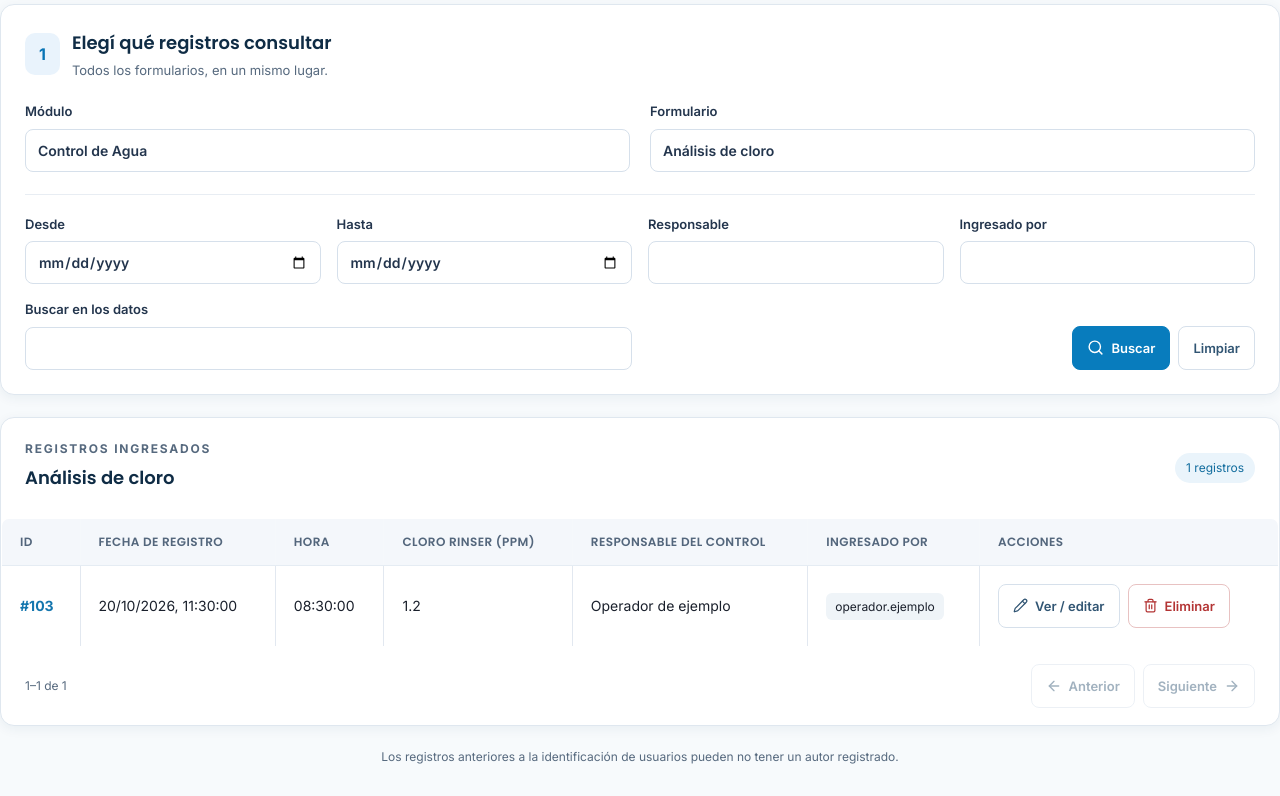
Test: sends only changed values, version and reason; preserves edits on conflict
(page scrolled)
Click the button "Ver / editar" at point(1059, 606), box x1=998 y1=584 x2=1120 y2=628
(page scrolled)
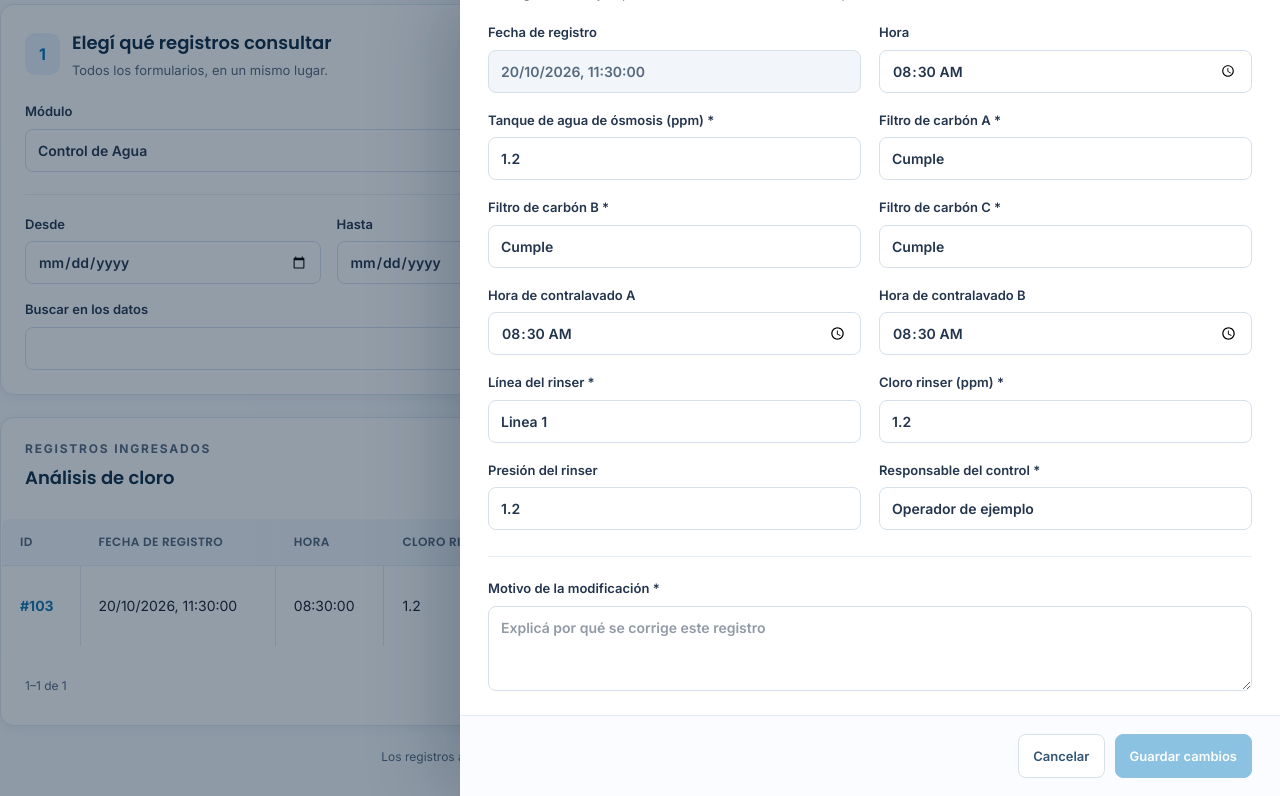
Replace the text in the number field labelled "Presión del rinser" with "4.2" at point(674, 508), box x1=488 y1=487 x2=861 y2=530
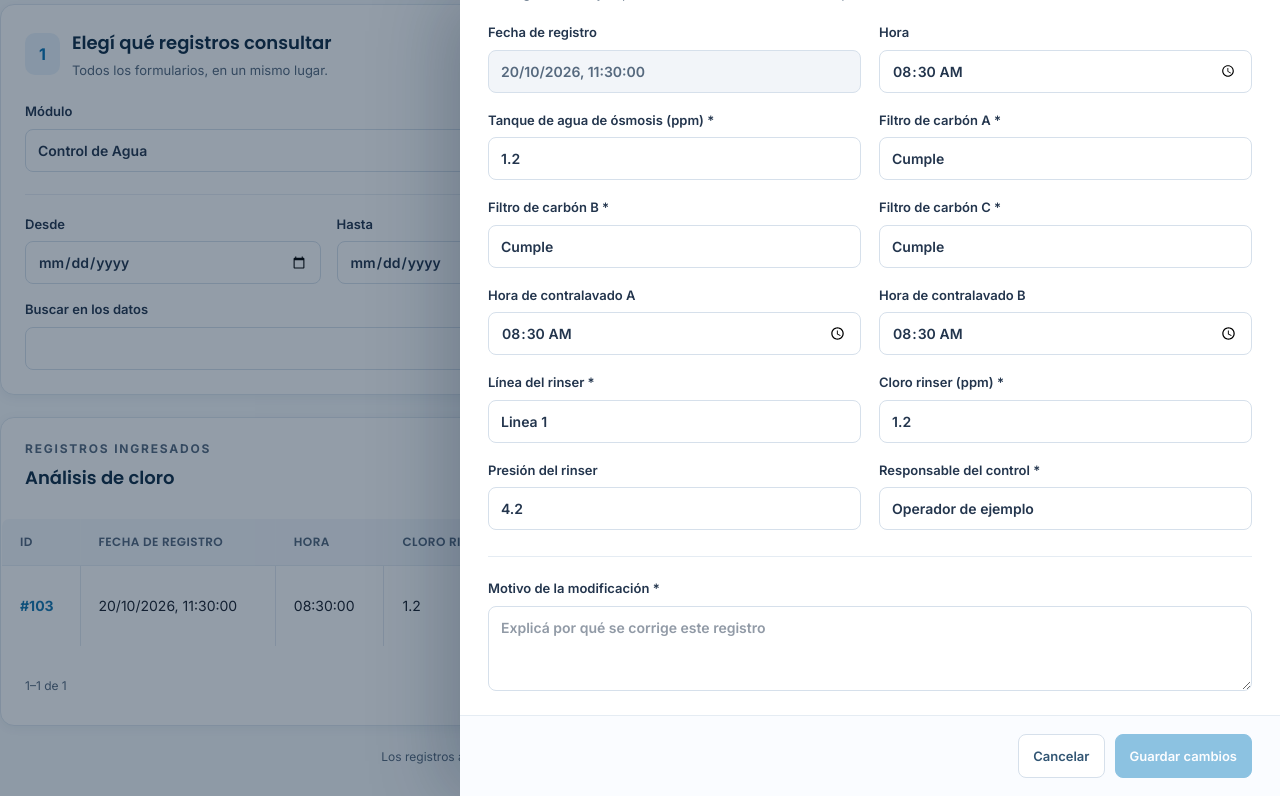
Type "Revisión del dato" into the text box labelled "Motivo de la modificación *" at point(870, 648), box x1=488 y1=606 x2=1252 y2=690
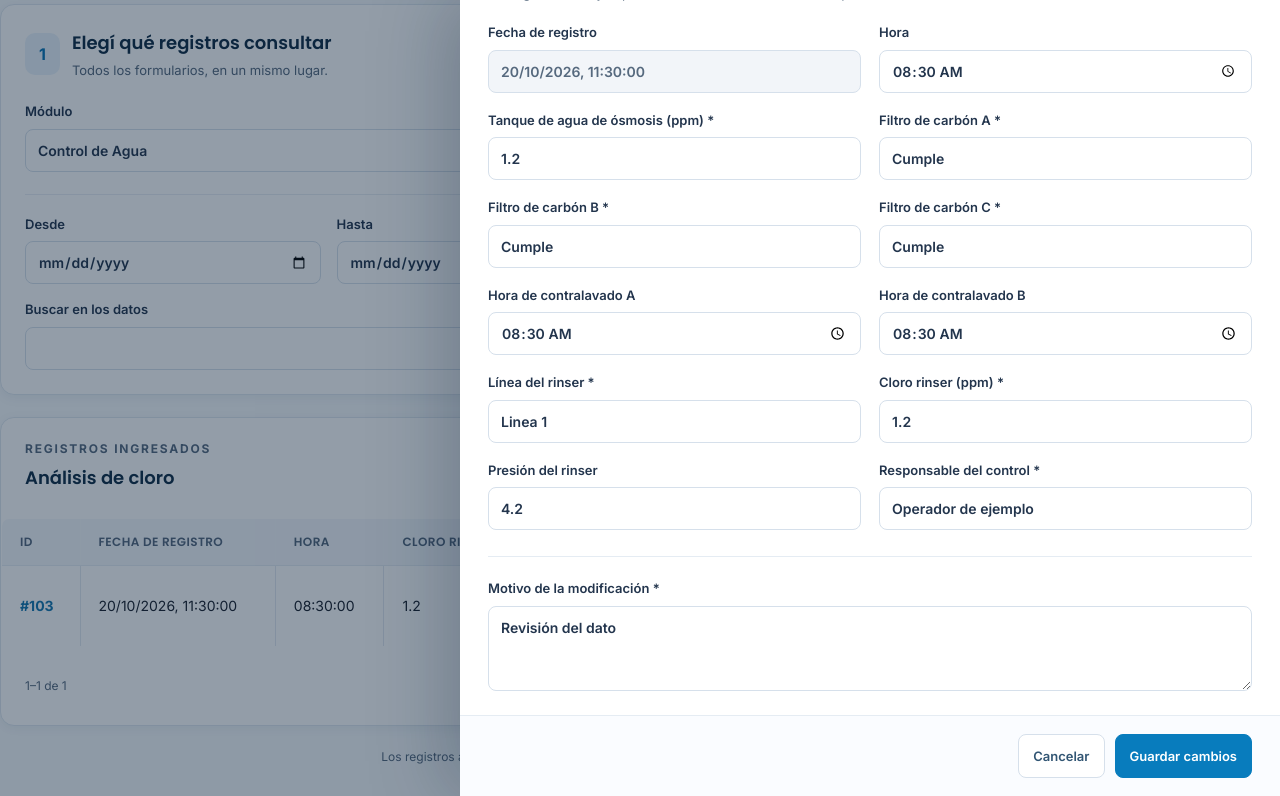
Click the button "Guardar cambios" at point(1183, 756), box x1=1114 y1=734 x2=1252 y2=778
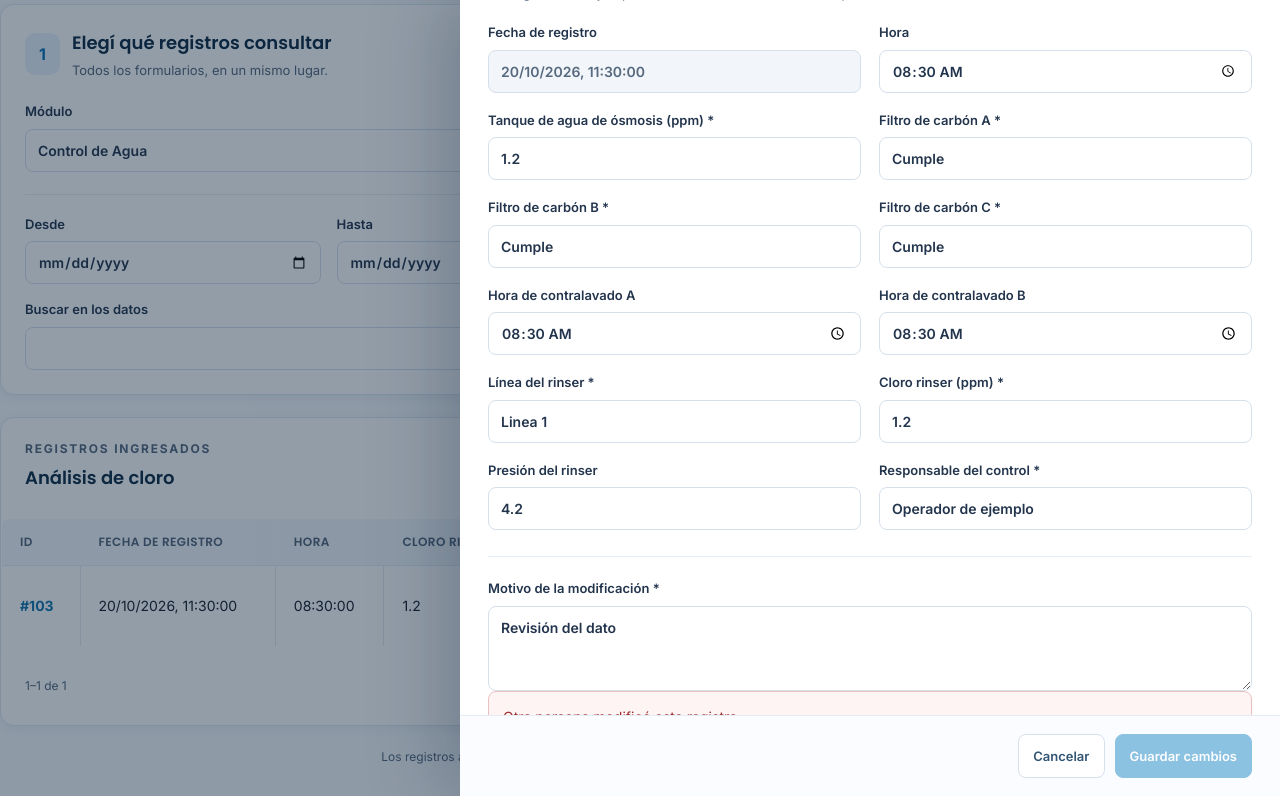
Expected: the message shows "Otra persona", x1=503 y1=708 x2=737 y2=724
Expected: the button "Guardar cambios" is disabled, x1=1114 y1=734 x2=1252 y2=778
